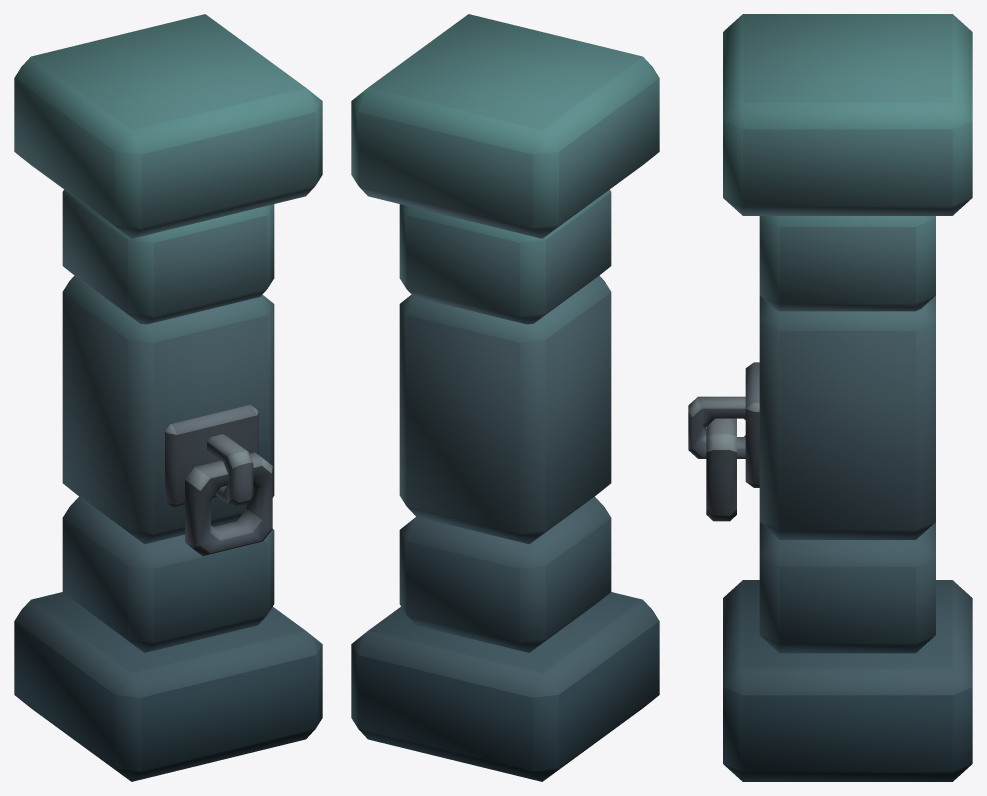
File: pillar.fbx
The picture shows the model from 3 angles, left to right: view 1: azimuth 30°, elevation 25°; view 2: azimuth 150°, elevation 25°; view 3: azimuth 270°, elevation 25°; orthographic projection. The views are drawn at different scales.
Visible parts, largest first — view 1: pillar; view 2: pillar; view 3: pillar.
Part boxes in pixels (box(x1,y1,x2,y2)): pillar: box(14, 14, 322, 781); pillar: box(351, 14, 659, 781); pillar: box(688, 14, 972, 781).
Size of the model in its own units: 100 by 300 by 114.
